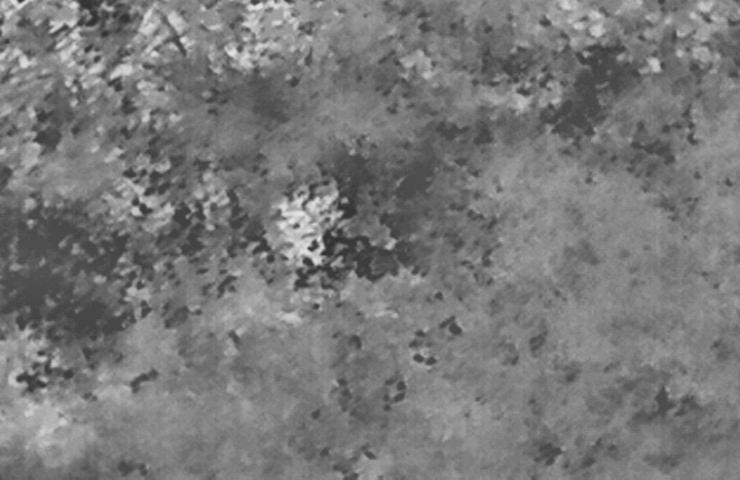landmines: (265, 183, 347, 263)
